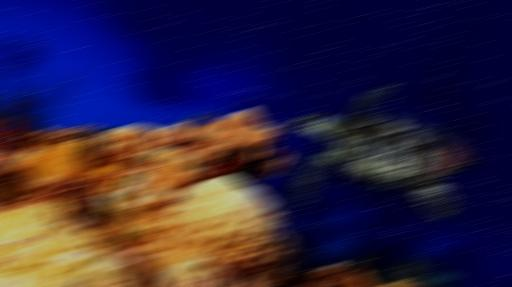Fish: (290, 85, 473, 219)
